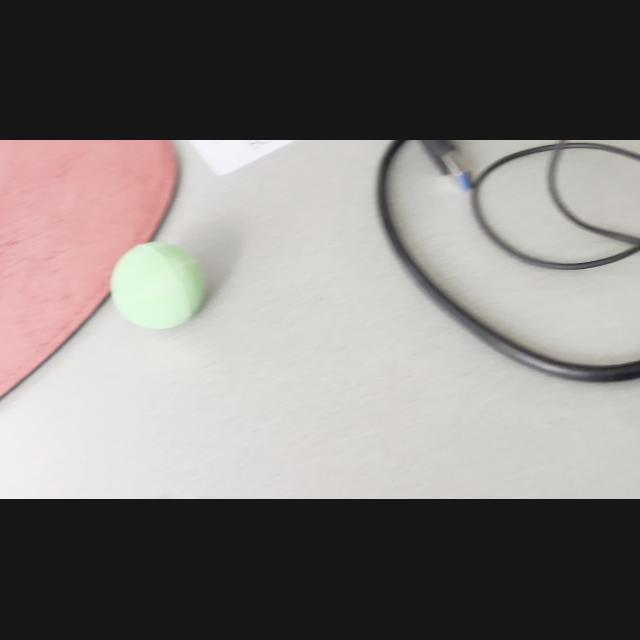objects: (102, 238, 214, 332)
